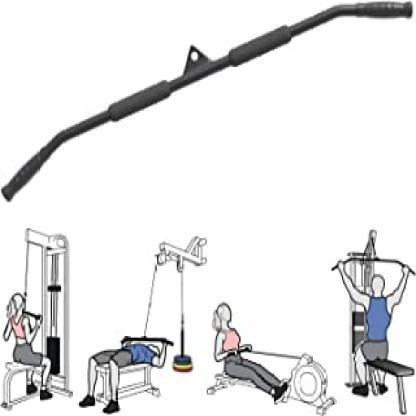Lat Pull Down: (333, 215, 416, 416), (0, 214, 82, 416)
